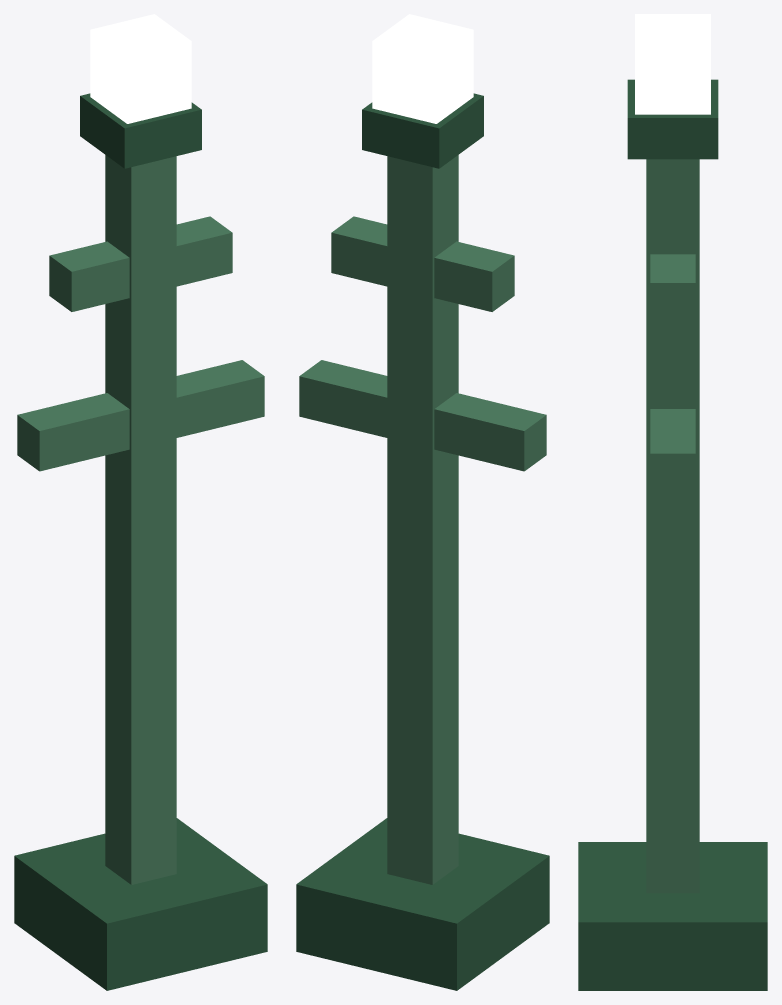
File: antenna.glb
3 views of the same model, side by side, from view 1: azimuth 30°, elevation 25°; view 2: azimuth 150°, elevation 25°; view 3: azimuth 270°, elevation 25° (orthographic). The views are drawn at different scales.
Visible parts, largest first — view 1: Post, Foot, BarA, Light, BarB, Cap; view 2: Post, Foot, BarA, Light, BarB, Cap; view 3: Post, Foot, Light, Cap, BarA, BarB.
Boxes of the visible parts, x1,y1,x2,y2 form: Post: (105,155,176,884); Foot: (14,818,267,990); BarA: (17,360,264,471); Light: (90,14,191,123); BarB: (49,216,232,311); Cap: (80,93,201,168); Post: (387,155,458,884); Foot: (296,818,549,990); BarA: (299,360,546,471); Light: (372,14,473,123); BarB: (331,216,514,311); Cap: (362,93,483,168); Post: (646,159,699,893); Foot: (578,842,767,990); Light: (635,14,710,114); Cap: (627,79,718,159); BarA: (650,409,695,494); BarB: (650,254,695,324).
Bounding box in the file's own units: 0.7 × 2.68 × 0.5.
